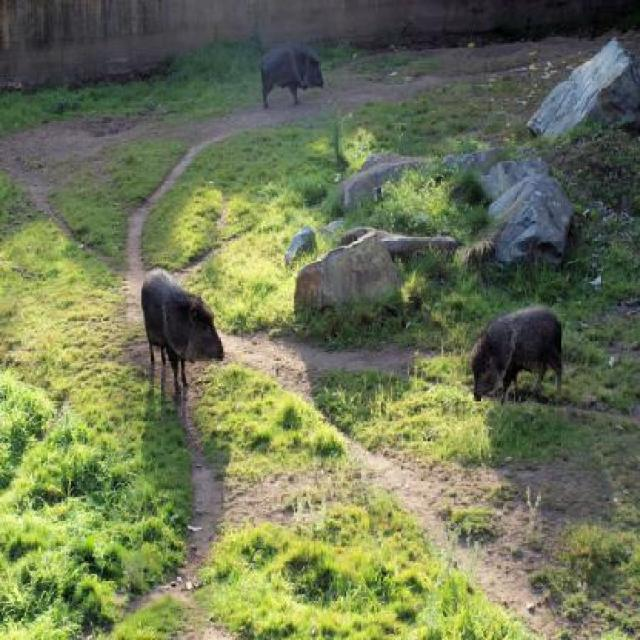pig: (140, 265, 226, 392), (471, 303, 562, 405), (258, 43, 324, 109)
